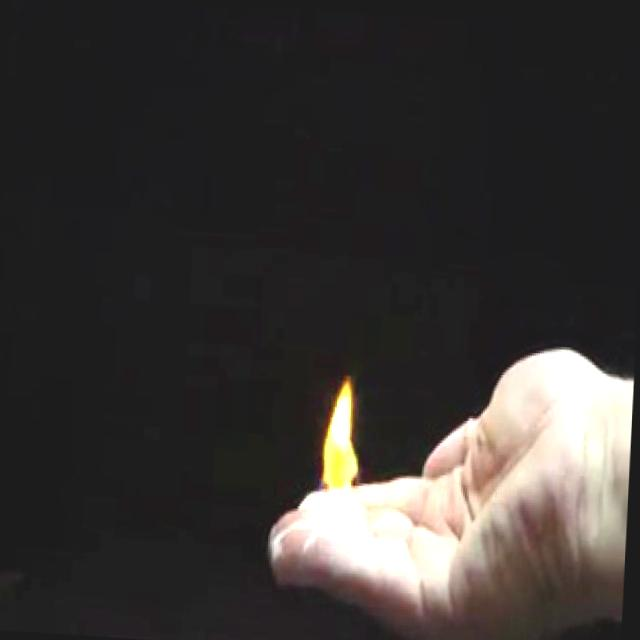helmet: (311, 358, 375, 535)
